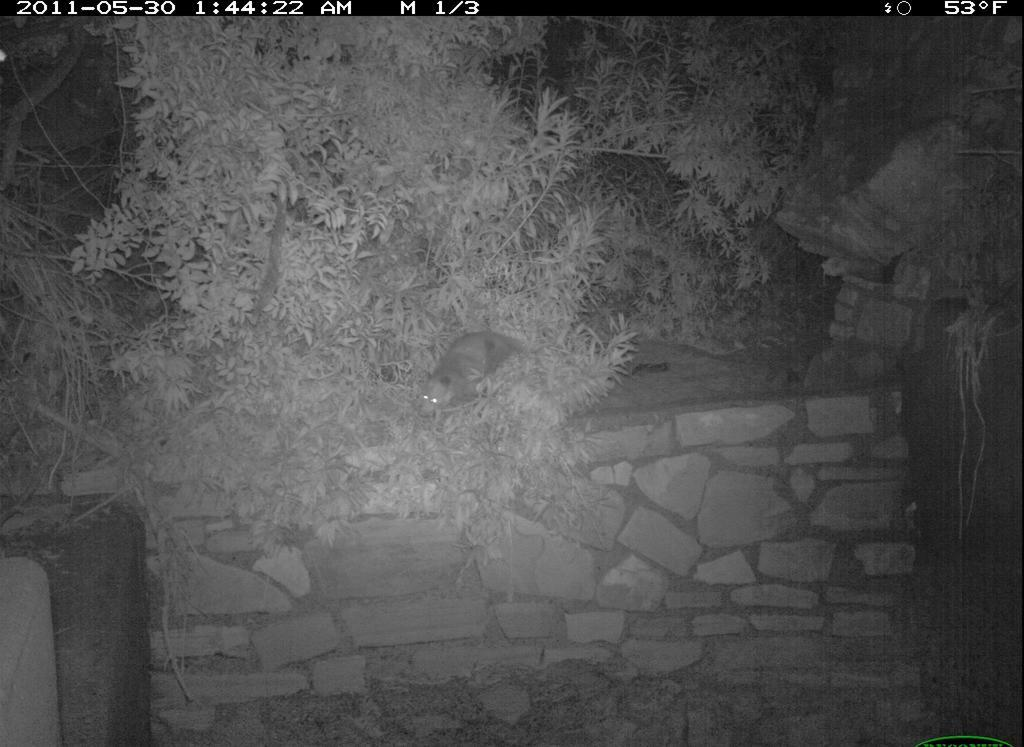opossum: (406, 321, 539, 429)
